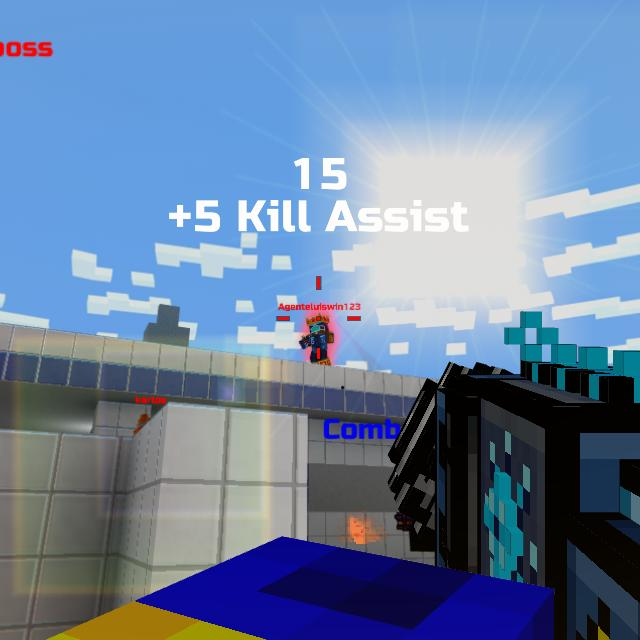Enemy: (299, 315, 334, 366)
